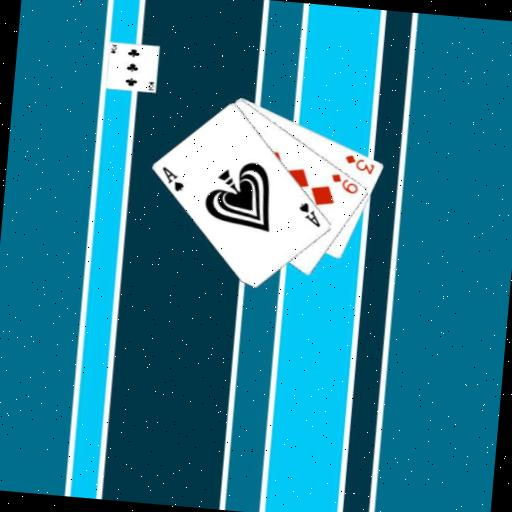3D: (340, 151, 377, 177)
9D: (327, 170, 361, 196)
AS: (158, 163, 188, 194), (296, 198, 325, 229)
